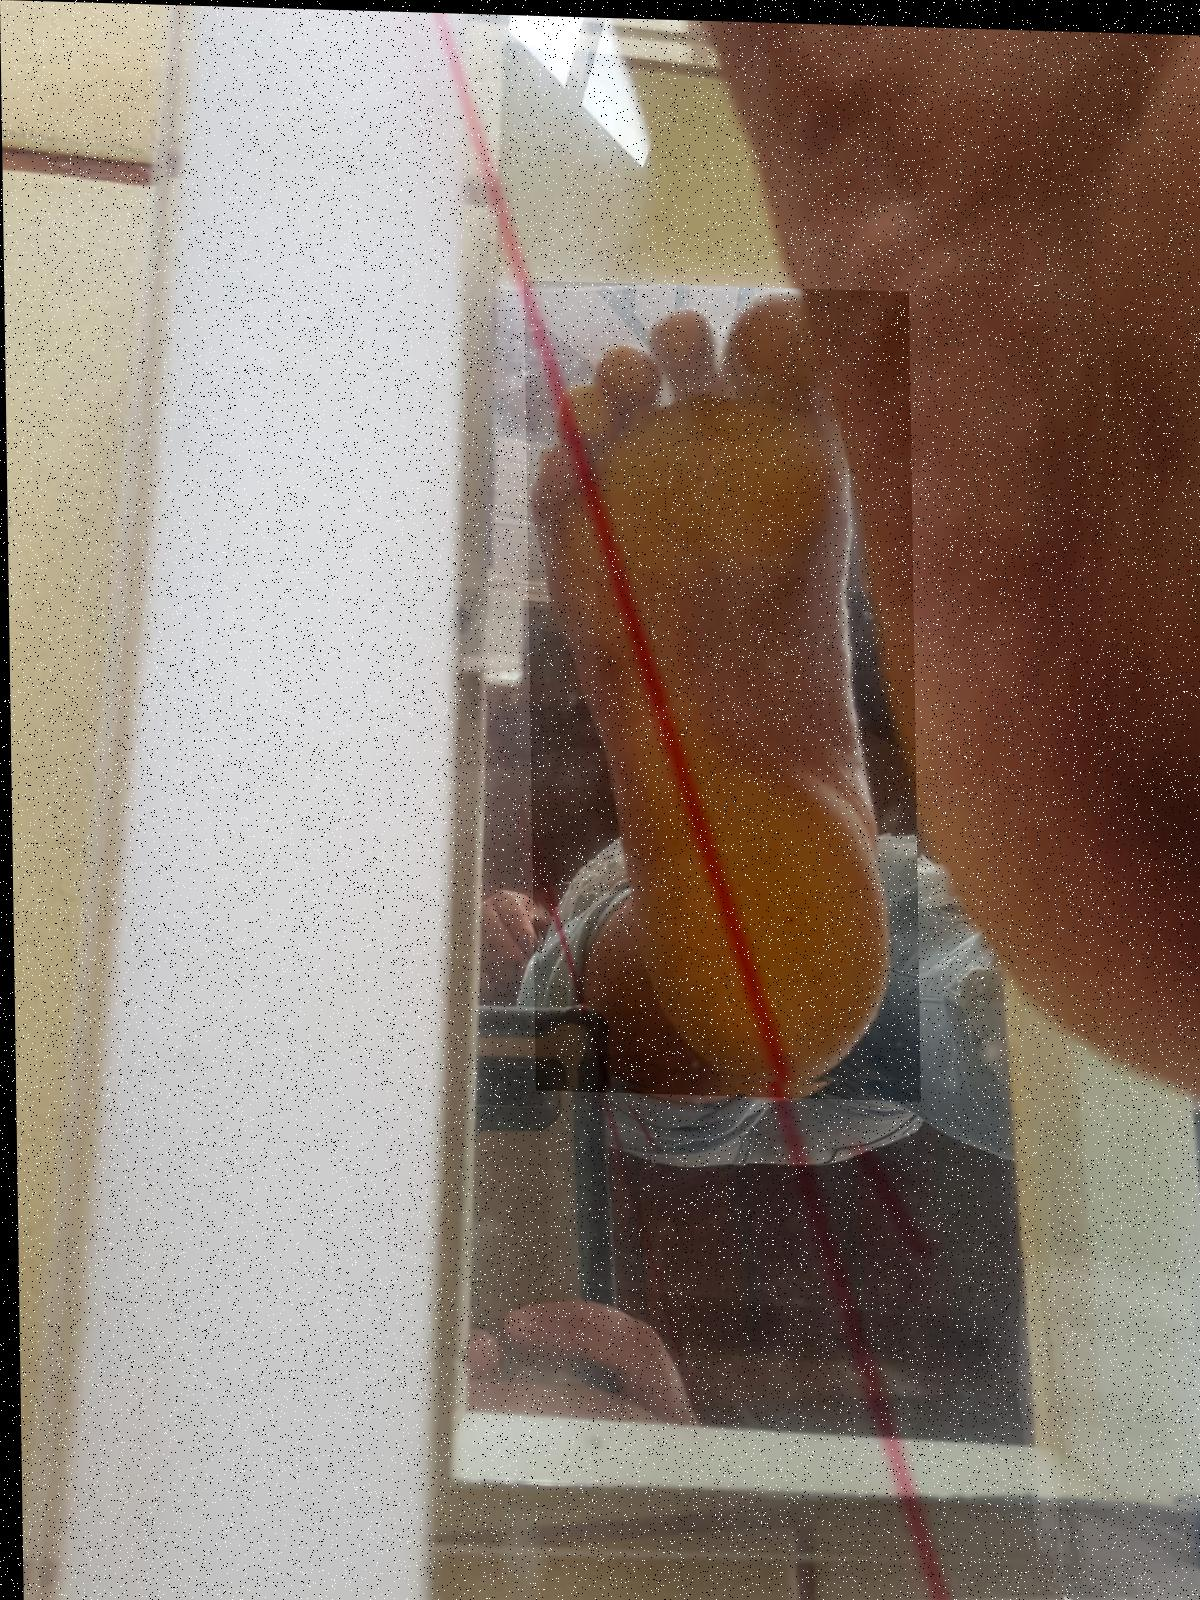Present: (523, 277, 918, 1096)
